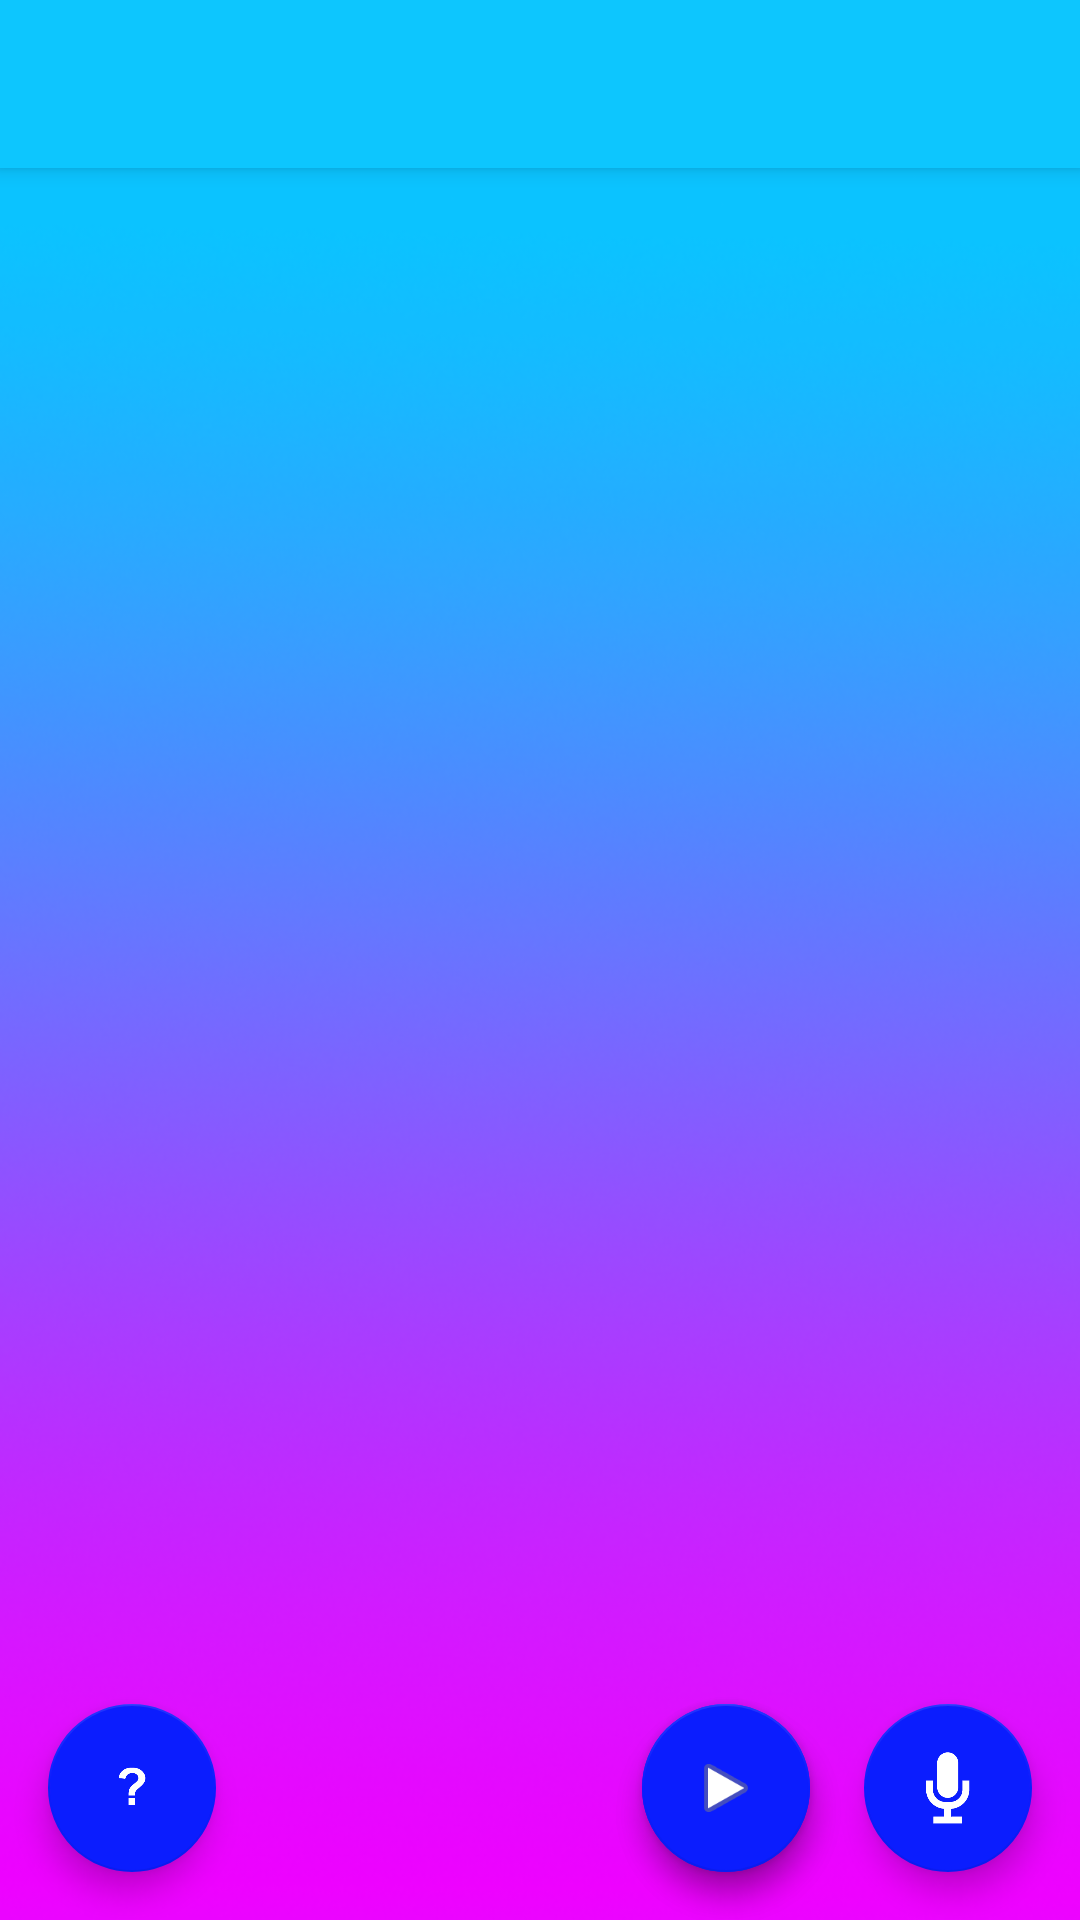

Named icons in this screenshot (1080px×1920px) and their bounding boxes, bbox=(x1, y1, x2, y2):
help: bbox=(48, 1704, 216, 1872)
microphone: bbox=(864, 1704, 1032, 1872)
